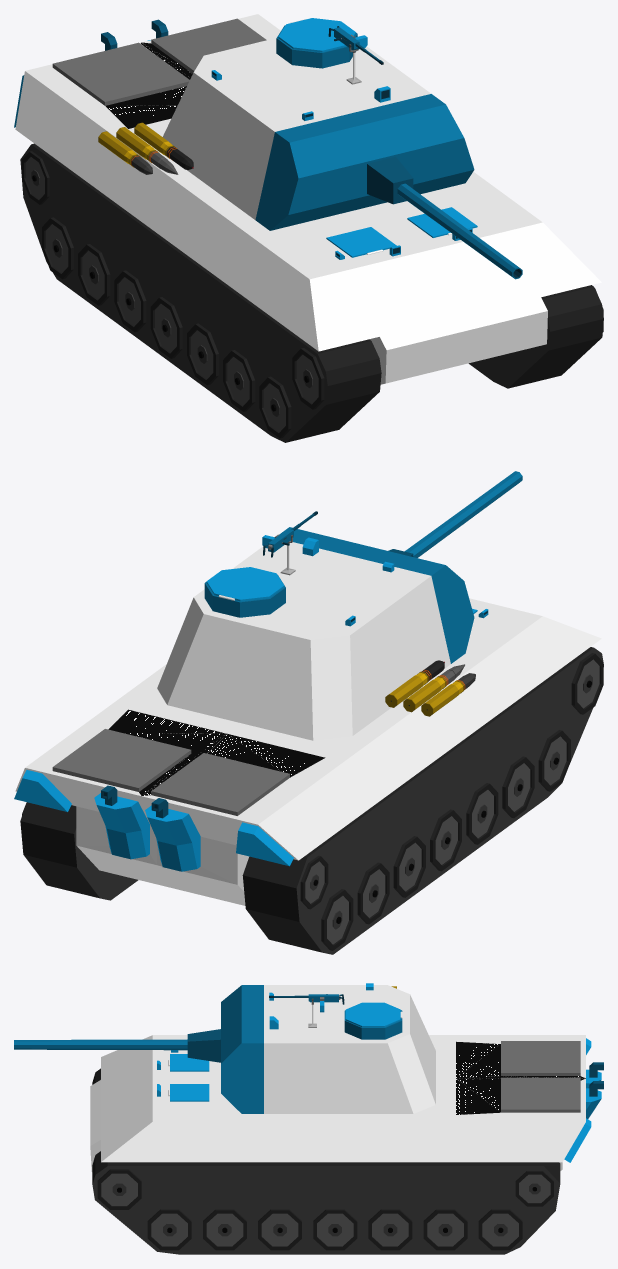
File: Tank.fbx
The picture shows the model from 3 angles, top to bottom: view 1: azimuth 30°, elevation 25°; view 2: azimuth 150°, elevation 25°; view 3: azimuth 270°, elevation 25°; orthographic projection. The views are drawn at different scales.
Parts seen in each view (by area): view 1: Cube.014, Cube, Cannon2, Cylinder.002, Cube.004, Cylinder.005, Cylinder.003, Shell2, Shell1, Shell3; view 2: Cube.014, Cube, Cylinder.002, Cannon2, Shell2, Shell3, Shell1; view 3: Cube.014, Cube, Cannon2, Cylinder.002, Cube.004, Cylinder.003, Cylinder.005, Cube.009.
Part boxes in pixels (x1,y1,x2,y2): Cube.014: (14,14,603,442); Cube: (163,25,474,230); Cannon2: (397,183,522,279); Cylinder.002: (278,18,355,52); Cube.004: (367,156,413,204); Cylinder.005: (326,227,396,257); Cylinder.003: (407,207,477,237); Shell2: (98,131,141,167); Shell1: (116,127,158,162); Shell3: (134,122,175,158); Cube.014: (14,598,603,954); Cube: (157,527,474,740); Cylinder.002: (206,567,284,601); Cannon2: (404,471,522,557); Shell2: (421,680,464,716); Shell3: (385,671,428,707); Shell1: (403,676,446,712); Cube.014: (90,1035,603,1254); Cube: (221,985,435,1113); Cannon2: (14,1039,187,1050); Cylinder.002: (345,1002,402,1027); Cube.004: (187,1029,220,1062); Cylinder.003: (168,1084,209,1101); Cylinder.005: (168,1054,209,1071); Cube.009: (269,994,344,1004).
Size of the model in its own units: 345 by 308 by 749.
